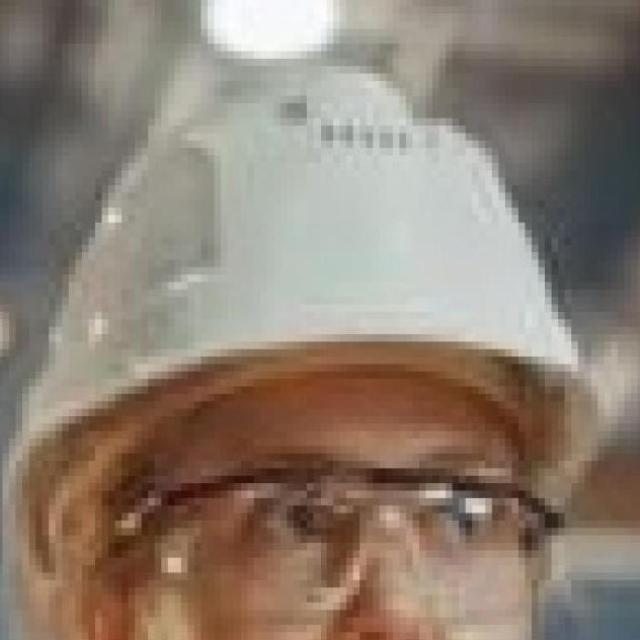white helmet: (28, 56, 600, 409)
